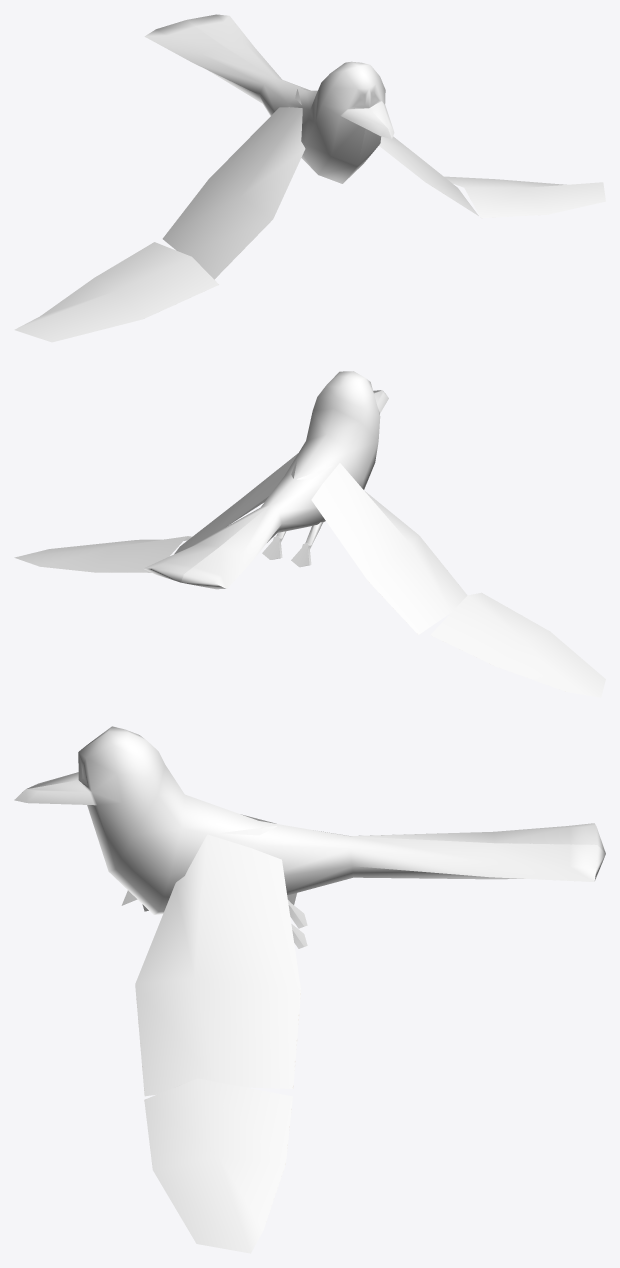
File: birdSplat.glb
3 renders of one model, top to bottom at view 1: azimuth 30°, elevation 25°; view 2: azimuth 150°, elevation 25°; view 3: azimuth 270°, elevation 25°, orthographic. The views are drawn at different scales.
Parts seen in each view (by area): view 1: node_id4, node_id7, node_id10, node_id16, node_id13; view 2: node_id4, node_id7, node_id10, node_id16, node_id13; view 3: node_id4, node_id13, node_id16.
Part boxes in pixels (left/top/right/bottom): node_id4: left=144, top=14, right=394, bottom=183; node_id7: left=162, top=89, right=305, bottom=279; node_id10: left=14, top=242, right=218, bottom=342; node_id16: left=444, top=176, right=605, bottom=218; node_id13: left=301, top=88, right=478, bottom=215; node_id4: left=143, top=371, right=388, bottom=589; node_id7: left=297, top=463, right=467, bottom=634; node_id10: left=430, top=592, right=605, bottom=697; node_id16: left=14, top=536, right=191, bottom=572; node_id13: left=174, top=453, right=297, bottom=553; node_id4: left=14, top=726, right=605, bottom=948; node_id13: left=135, top=826, right=301, bottom=1096; node_id16: left=144, top=1078, right=292, bottom=1253.
Bounding box in the file's own units: 0.5085 × 0.1851 × 0.3104.
Materials: 5 (5 with a texture image).
